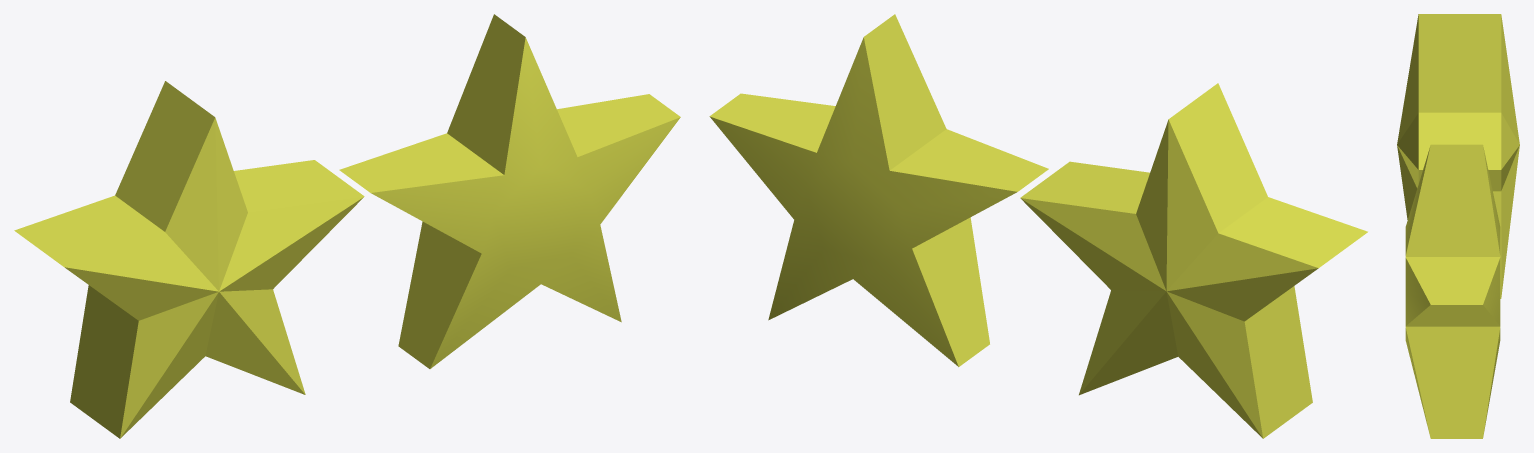
The model's file is Stars.fbx.
The picture shows the model from 3 angles, left to right: view 1: azimuth 30°, elevation 25°; view 2: azimuth 150°, elevation 25°; view 3: azimuth 270°, elevation 25°; orthographic projection. The views are drawn at different scales.
Parts seen in each view (by area): view 1: Star01_msh, Star02_msh; view 2: Star01_msh, Star02_msh; view 3: Star02_msh, Star01_msh.
Part boxes in pixels (x1,y1,x2,y2): Star01_msh: (14, 81, 364, 438); Star02_msh: (339, 14, 680, 368); Star01_msh: (1020, 83, 1367, 438); Star02_msh: (709, 14, 1048, 366); Star02_msh: (1405, 144, 1500, 438); Star01_msh: (1397, 14, 1519, 298).
Size of the model in its own units: 8.84 by 4.22 by 1.82.
